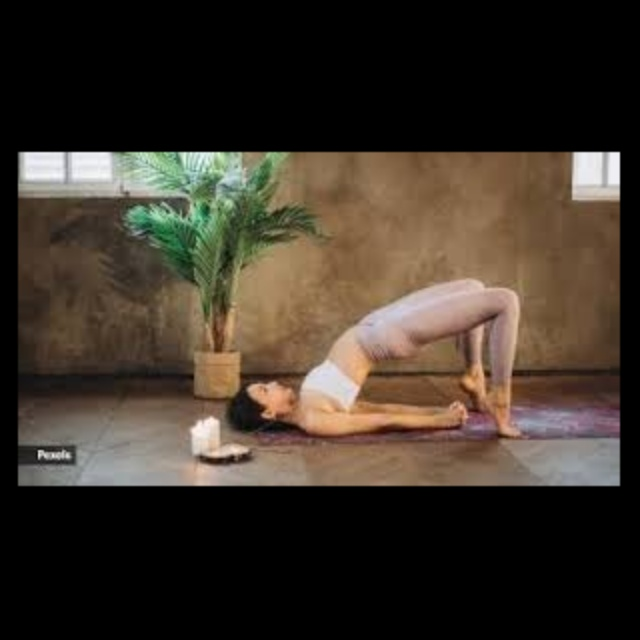Bridge_Pose: (225, 275, 534, 450)
